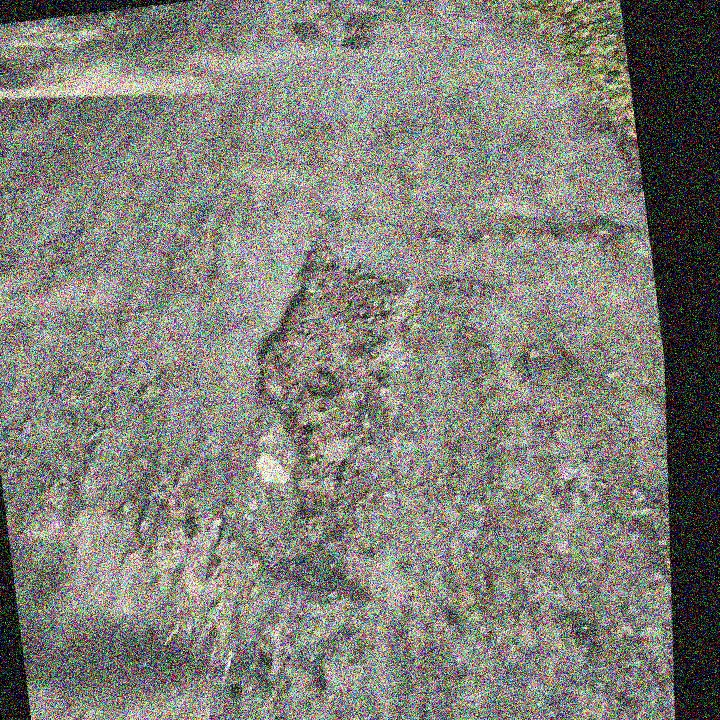pothole: (228, 231, 441, 504), (287, 13, 326, 52), (339, 7, 380, 37), (338, 30, 375, 55)
